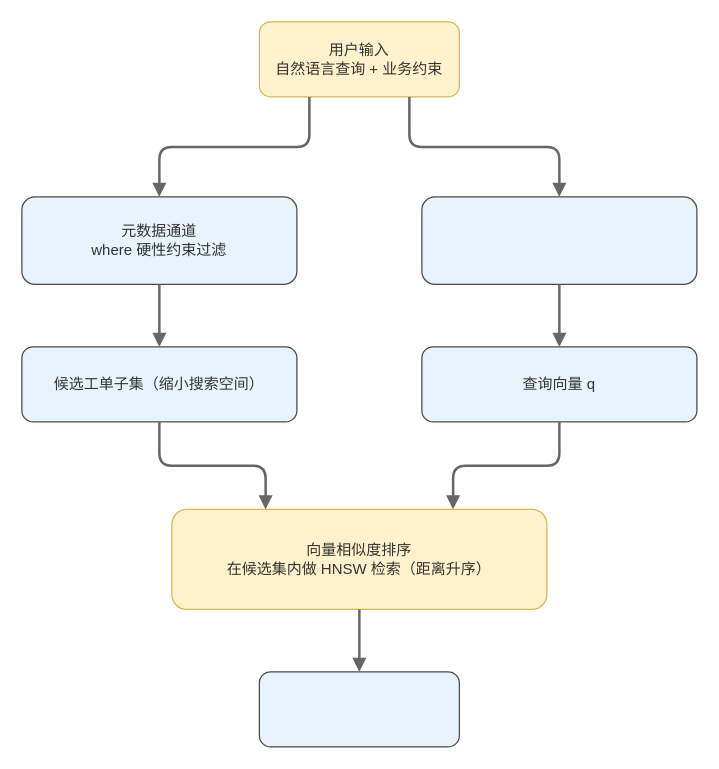
This 719x769 diagram has some shape labels left out. Here are the shapes that lost their labels. From the top down, the centre of each, then its label:
At (559,240): "向量通道 查询文本 → 嵌入向量".
At (358,709): "Top N 工单（最终结果）".
